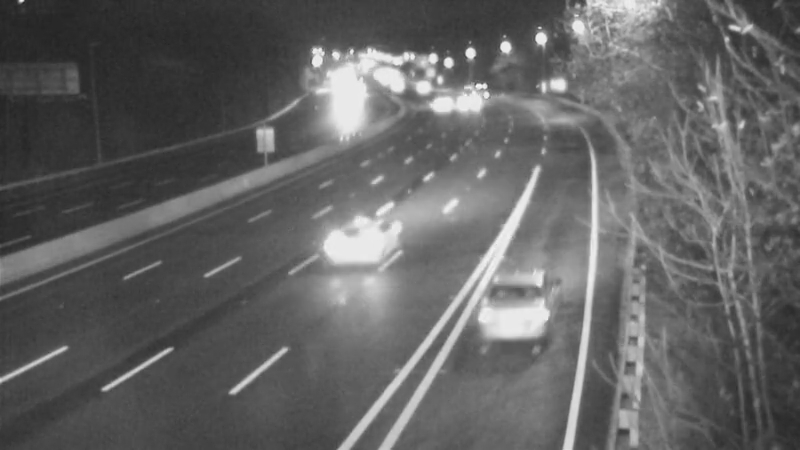vehicle: (449, 259, 559, 369), (316, 202, 396, 282), (397, 60, 447, 110), (448, 63, 498, 113), (412, 78, 462, 128), (442, 78, 492, 128)
